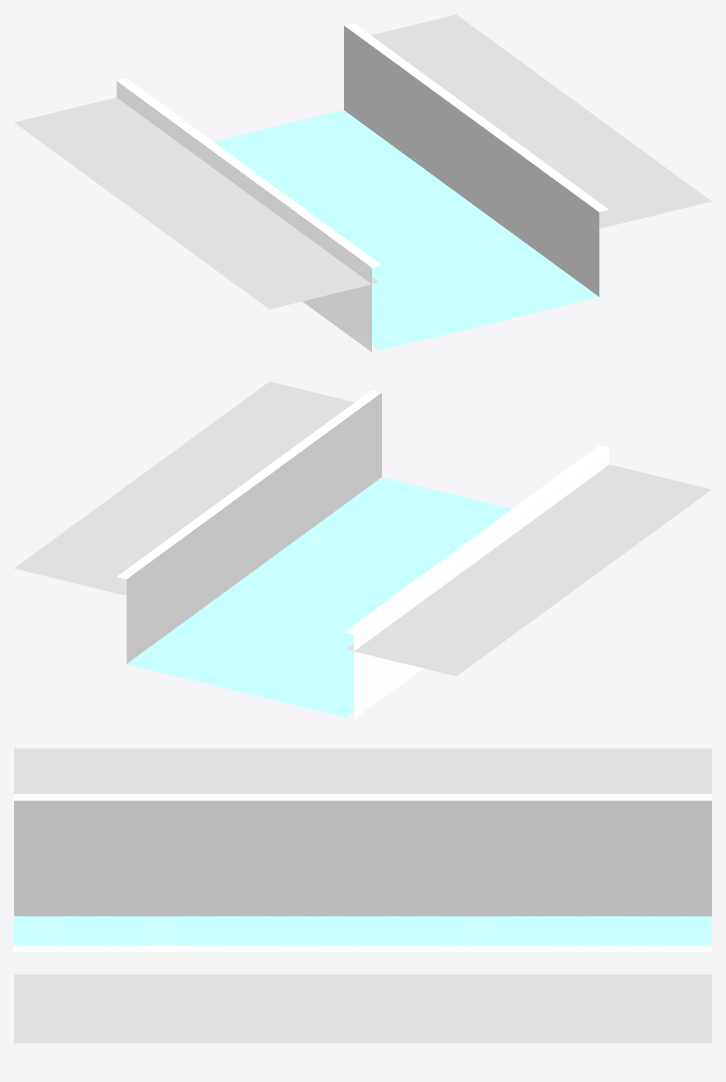
Rendered from road_tile_river_1x1_1.glb.
3 renders of one model, top to bottom at view 1: azimuth 30°, elevation 25°; view 2: azimuth 150°, elevation 25°; view 3: azimuth 270°, elevation 25°, orthographic. The views are drawn at different scales.
Visible parts, largest first — view 1: road_tile_river_1x1_1(Clone); view 2: road_tile_river_1x1_1(Clone); view 3: road_tile_river_1x1_1(Clone).
Part boxes in pixels (<box>): road_tile_river_1x1_1(Clone): <box>14,14,711,351</box>; road_tile_river_1x1_1(Clone): <box>14,381,711,718</box>; road_tile_river_1x1_1(Clone): <box>14,748,711,1067</box>.
Size of the model in its own units: 8 by 1.46 by 8.
Materials: 1 (1 with a texture image).
